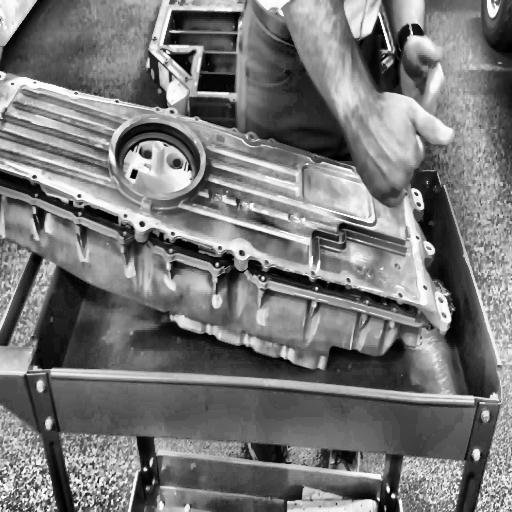bms_unit: (0, 65, 452, 373)
